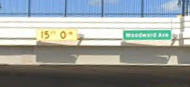0: (58, 29, 67, 40)
1: (39, 29, 45, 41)
5: (43, 29, 50, 40)
overheadsign: (36, 27, 78, 43)
